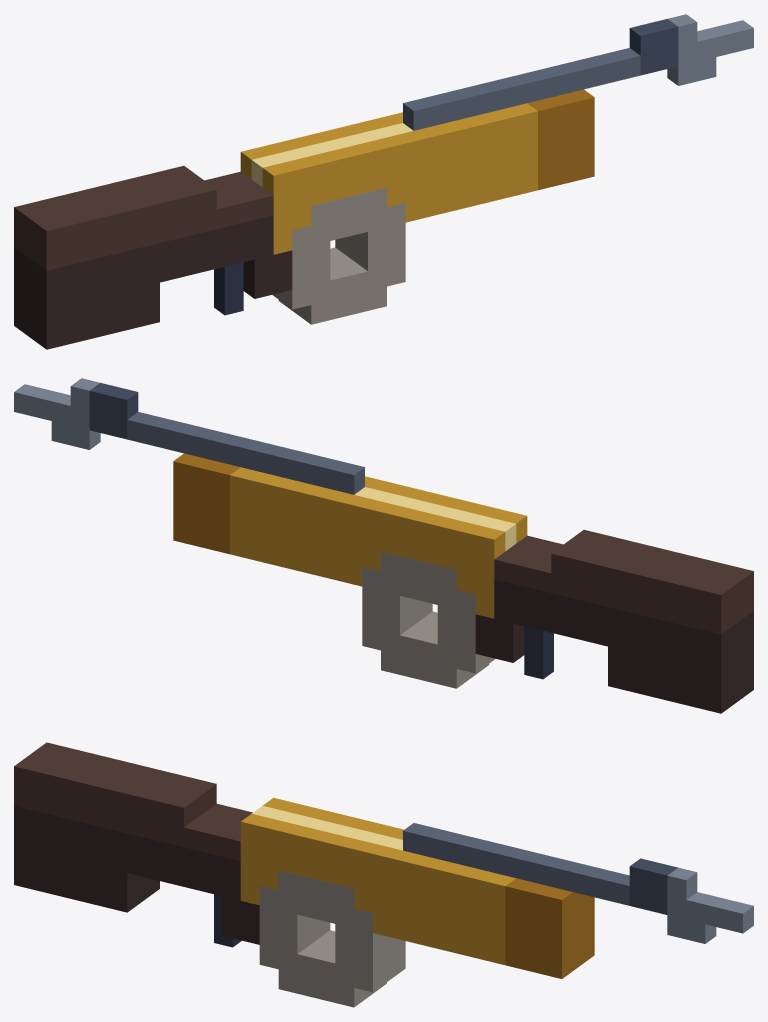
The model's file is harpoon_gun.glb.
3 renders of one model, top to bottom at view 1: azimuth 30°, elevation 25°; view 2: azimuth 150°, elevation 25°; view 3: azimuth 330°, elevation 25°, orthographic.
Parts seen in each view (by area): view 1: gun; view 2: gun; view 3: gun.
Boxes of the visible parts, x1=… form: gun: x1=14, y1=14, x2=753, y2=349; gun: x1=14, y1=378, x2=753, y2=713; gun: x1=14, y1=742, x2=753, y2=1007.
Bounding box in the file's own units: 2.38 × 0.625 × 0.1875.
1 material, 1 textured.
